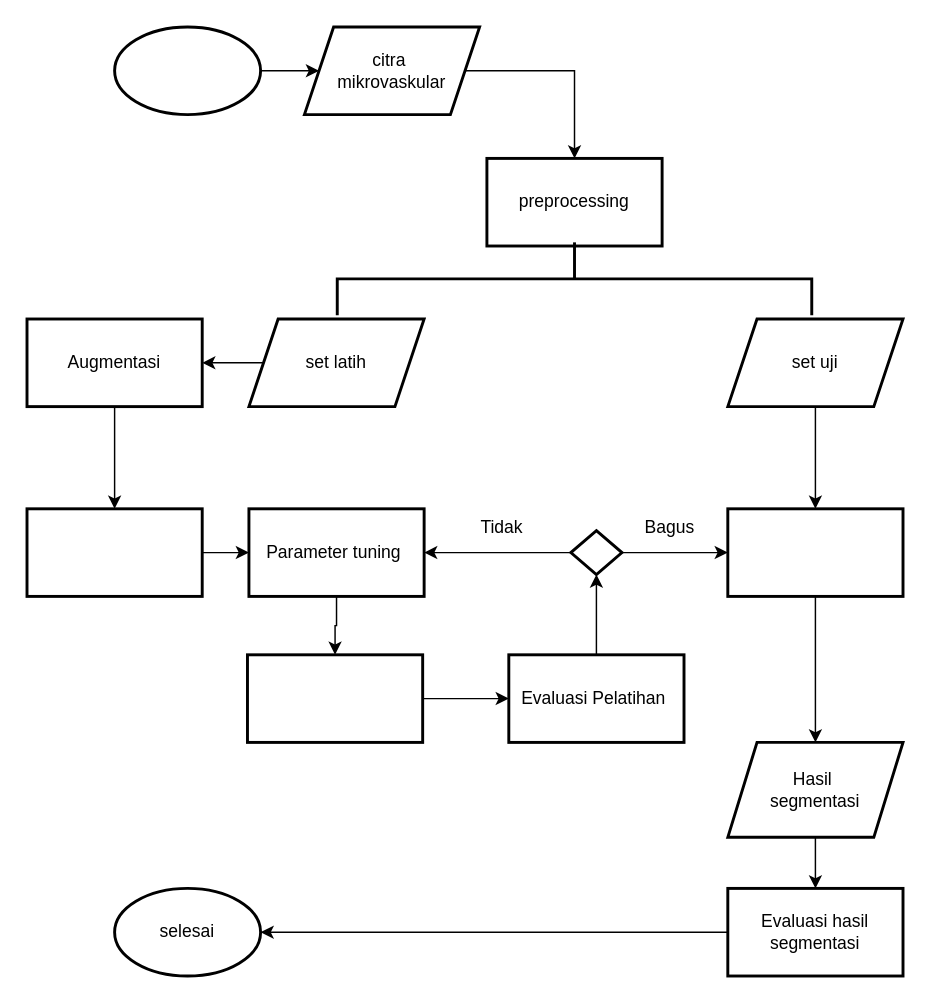
This 929x1002 diagram has some shape labels left out. The shapes that lost their labels are listed below. From the top down, each one's box as (x1, y1, x2, y2) in pixels, then its label:
(112, 25, 261, 115): mulai
(335, 240, 812, 316): Split dataset
(25, 507, 203, 597): pembuatan model U-net
(726, 507, 904, 597): Model U-net
(245, 653, 423, 743): Pelatihan
